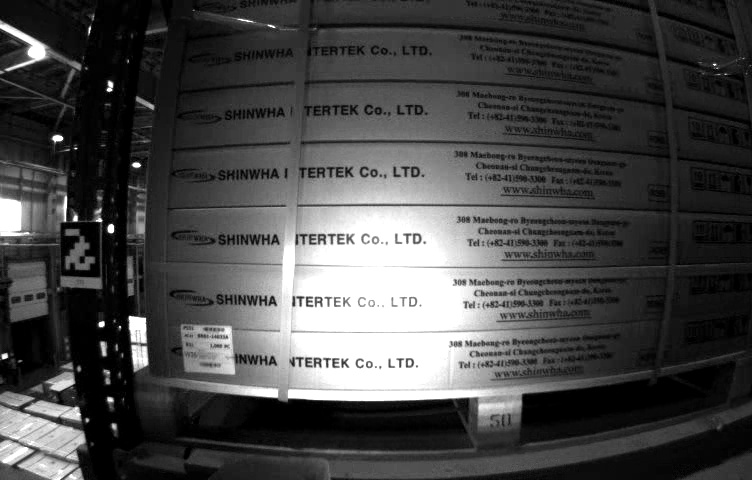True Barcode: (181, 324, 237, 377)
